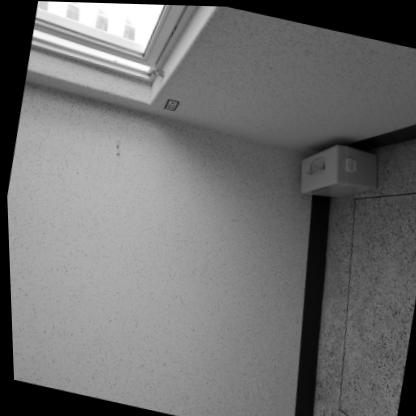DDL: (293, 134, 381, 206)
